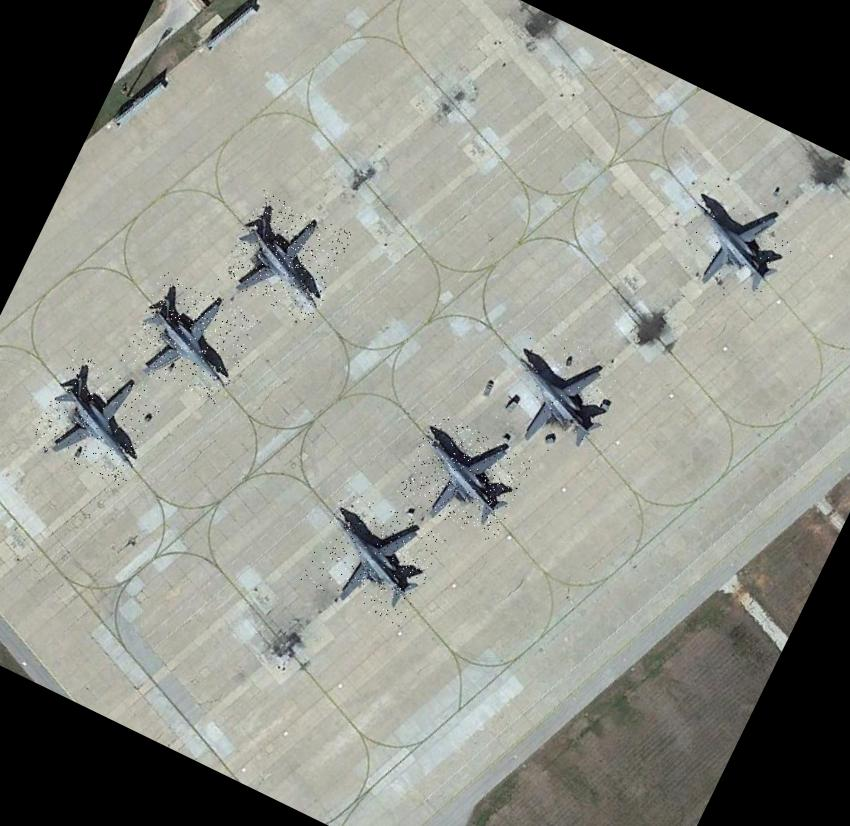A10: (488, 322, 640, 472), (300, 486, 448, 628), (119, 270, 262, 409), (664, 176, 804, 314), (29, 350, 168, 488), (217, 189, 356, 325), (394, 410, 535, 544)
